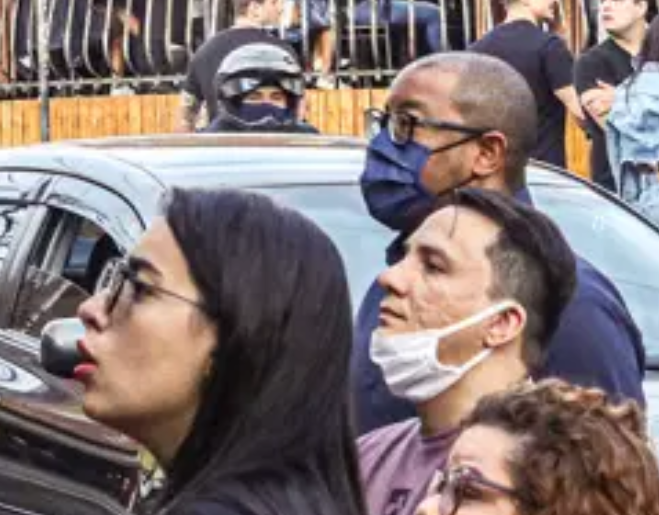mask_weared_incorrect: (367, 201, 561, 407)
with_mask: (357, 74, 511, 231)
without_mask: (70, 200, 276, 439)
